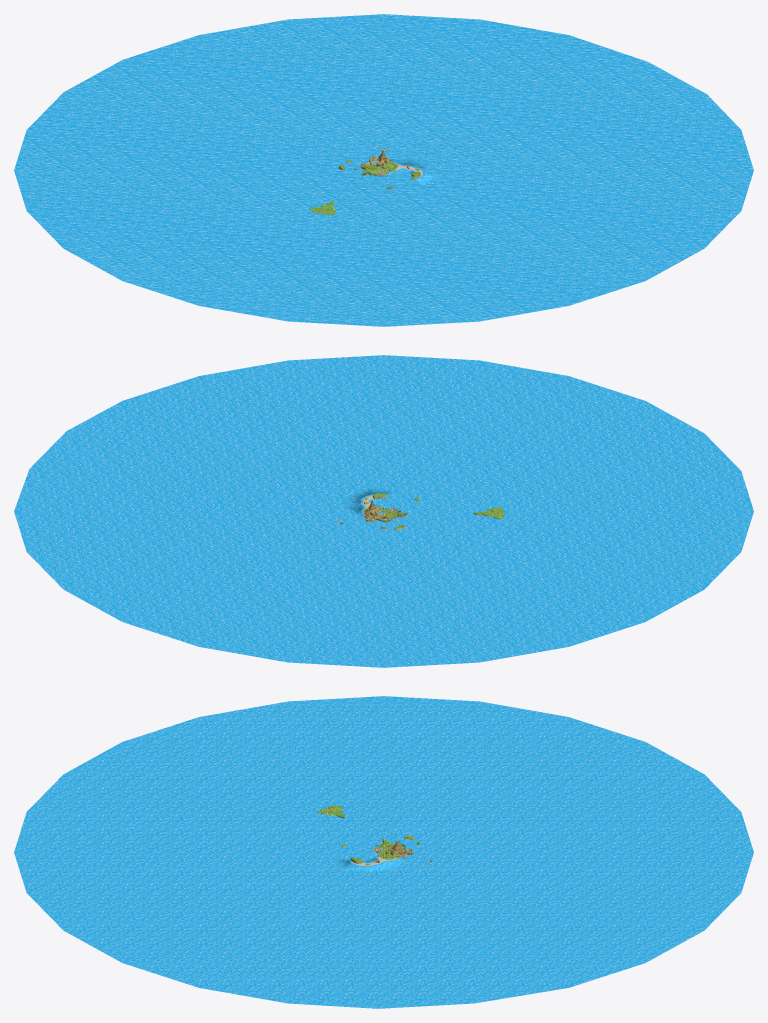
The picture shows the model from 3 angles, top to bottom: view 1: azimuth 30°, elevation 25°; view 2: azimuth 150°, elevation 25°; view 3: azimuth 270°, elevation 25°; orthographic projection.
Visible parts, largest first — view 1: skfb_offset; view 2: skfb_offset; view 3: skfb_offset.
Boxes of the visible parts, box(x1,y1,x2,y2) form: skfb_offset: box(14, 14, 753, 326); skfb_offset: box(14, 355, 753, 667); skfb_offset: box(14, 696, 753, 1008).
Bounding box in the file's own units: 2278397 × 48563 × 2278396.
Materials: 45 (44 with a texture image).
